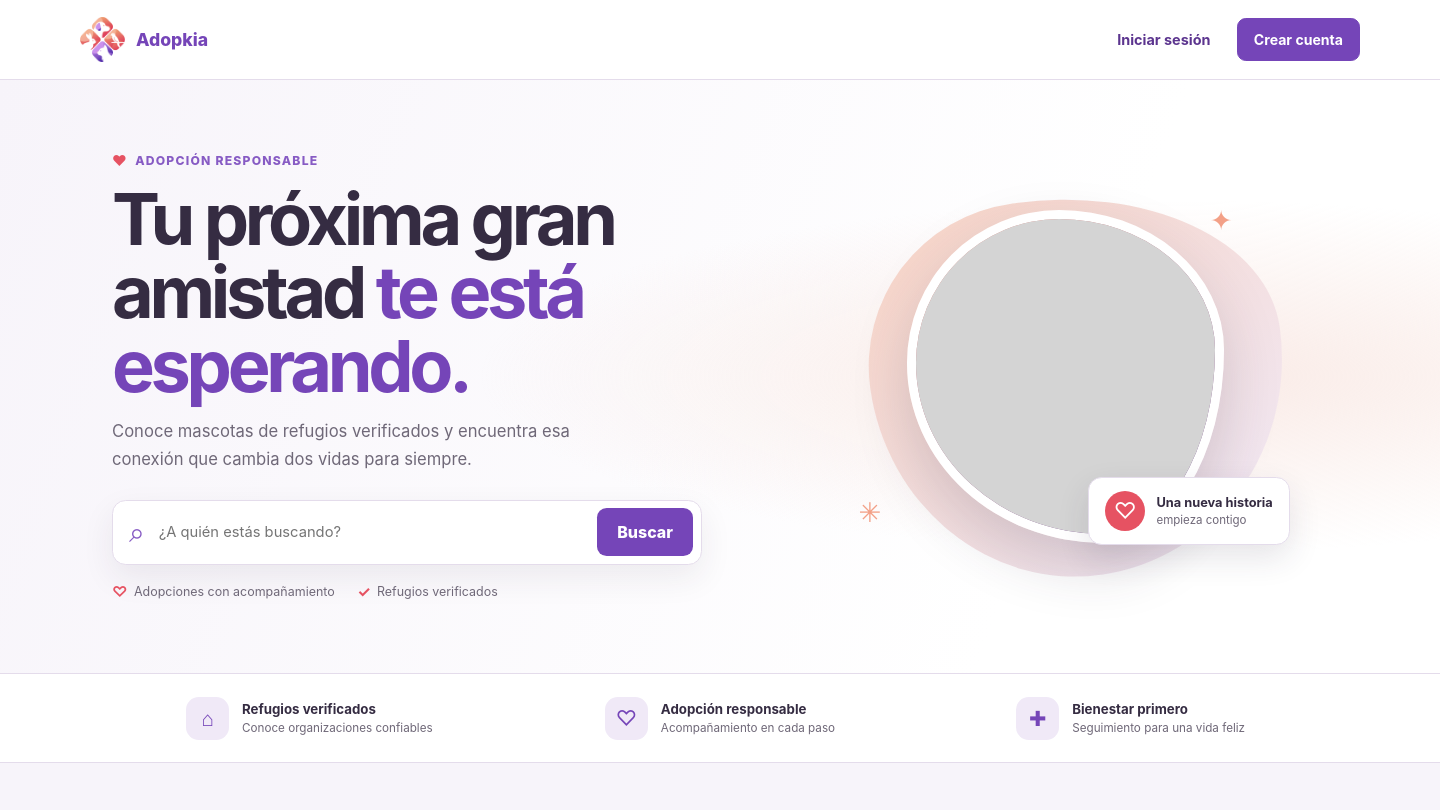
public landing page › explains a login challenge failure and lets the user retry
Click the button "Iniciar sesión" at (1164, 40), box [1109,18,1218,62]
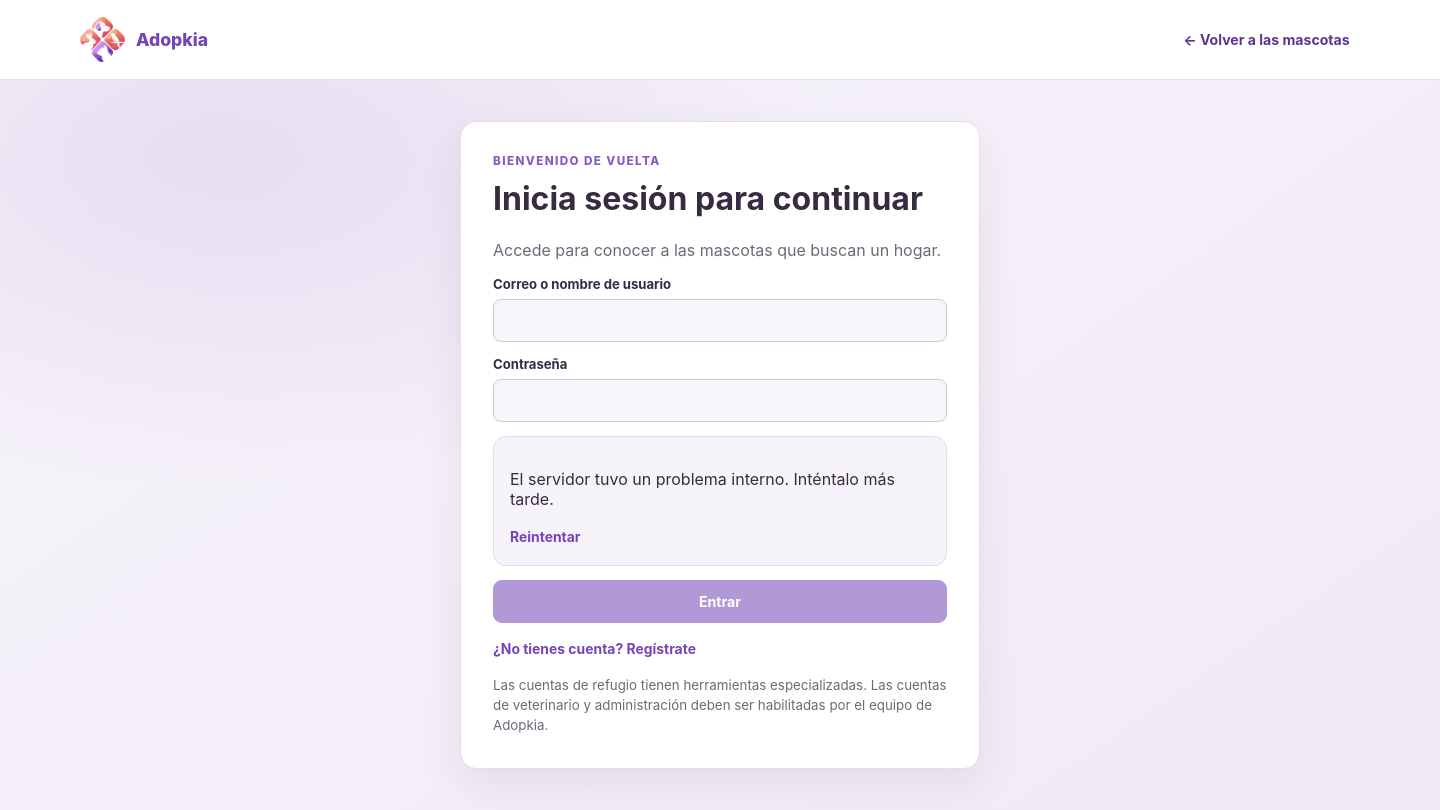
Result: the message reads "El servidor tuvo un problema interno. Inténtalo más tarde." at [510,469,895,509]
Result: the button "Reintentar" is shown
Result: the button "Entrar" is disabled at [493,580,947,623]
Click the button "Reintentar" at (545, 537), box [510,525,580,549]
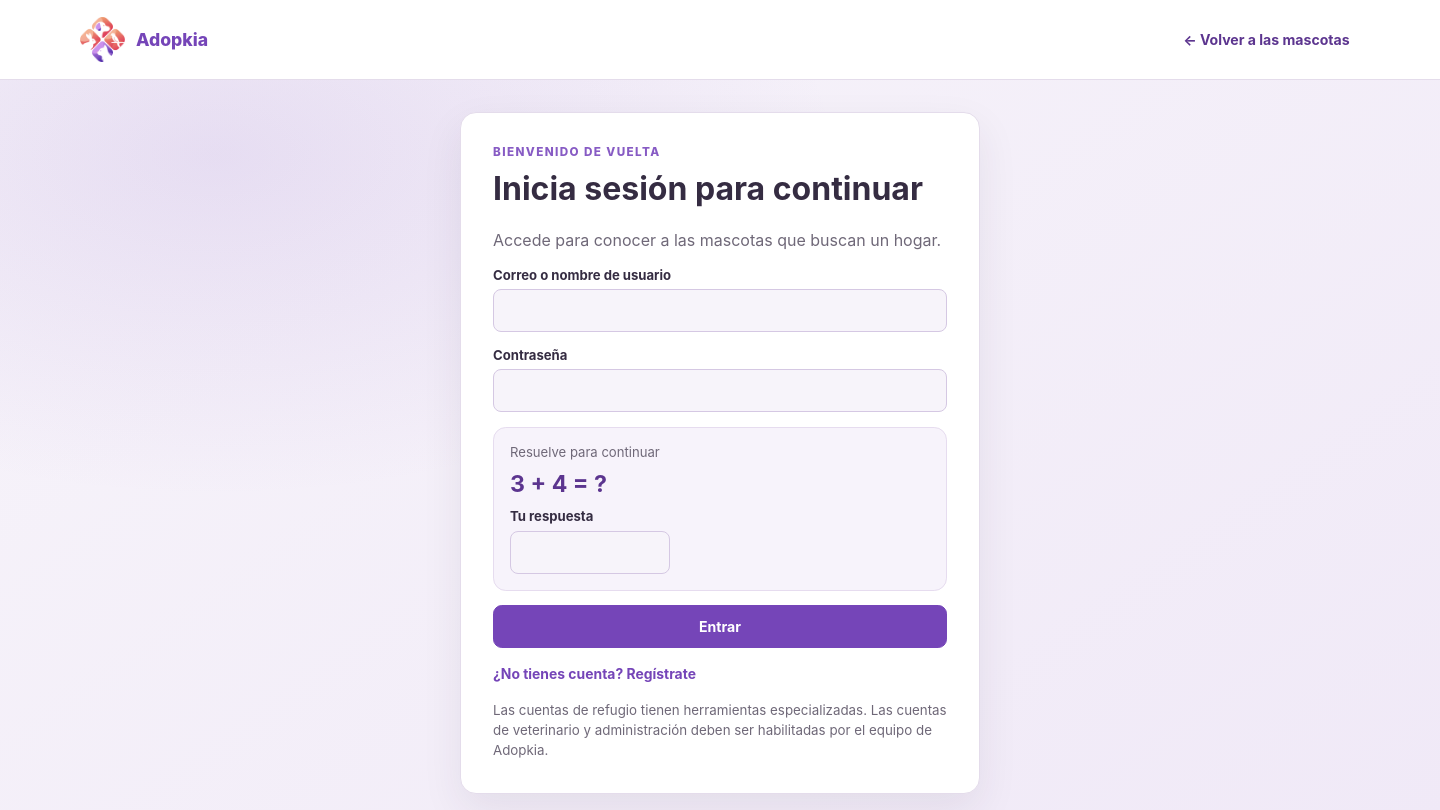
Result: the text "3 + 4 = ?" is shown at [510,470,607,498]
